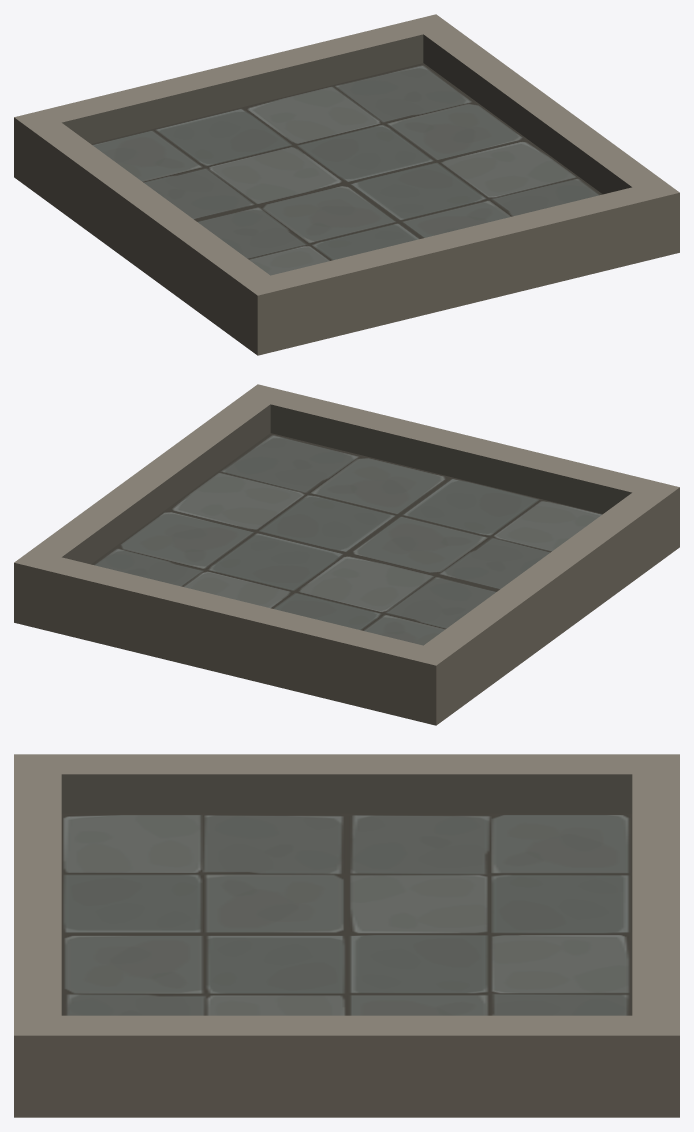
The model's file is RoofTop_A02.fbx.
The picture shows the model from 3 angles, top to bottom: view 1: azimuth 30°, elevation 25°; view 2: azimuth 150°, elevation 25°; view 3: azimuth 270°, elevation 25°; orthographic projection. The views are drawn at different scales.
Visible parts, largest first — view 1: RoofTop_A02; view 2: RoofTop_A02; view 3: RoofTop_A02.
Boxes of the visible parts, box(x1,y1,x2,y2) form: RoofTop_A02: box(14, 14, 679, 355); RoofTop_A02: box(14, 384, 679, 725); RoofTop_A02: box(14, 754, 679, 1117).
Bounding box in the file's own units: 607 × 82.56 × 607.
